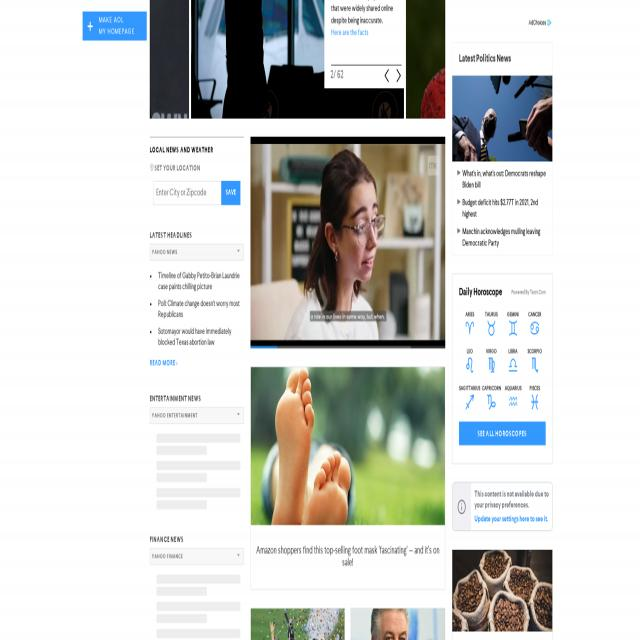button: (251, 367, 445, 525), (452, 549, 552, 640), (452, 76, 552, 161), (459, 422, 545, 446), (459, 321, 481, 336), (480, 321, 502, 336), (502, 321, 524, 336), (524, 321, 546, 336), (459, 358, 481, 373), (480, 358, 502, 373), (502, 358, 524, 373), (524, 358, 546, 373), (459, 395, 481, 410), (480, 395, 502, 410), (502, 395, 524, 410), (524, 395, 546, 410), (458, 500, 466, 514), (384, 69, 388, 82), (397, 69, 401, 82), (88, 22, 92, 31)
field: (153, 181, 221, 205), (150, 244, 243, 261), (150, 407, 243, 424), (150, 548, 243, 565), (222, 181, 240, 205)
